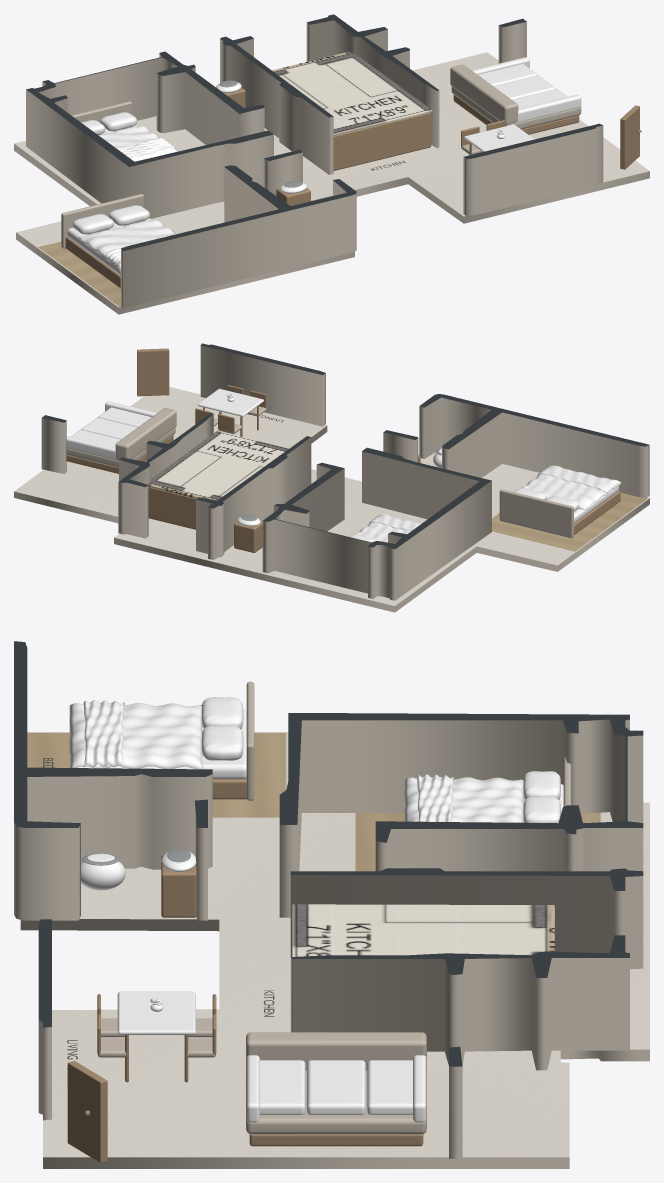
File: opal-group-unit-03.glb
3 renders of one model, top to bottom at view 1: azimuth 30°, elevation 25°; view 2: azimuth 150°, elevation 25°; view 3: azimuth 270°, elevation 25°, orthographic. The views are drawn at different scales.
Visible parts, largest first — view 1: Partition walls, Apartment floor, Stone worktop, Kitchen cabinets, Sofa back, Draped bed linen.002, Draped bed linen, Upholstered headboard.001, Open oak door, Marble dining top, Padded armrest, Upholstered sofa frame (+11 smaller); view 2: Partition walls, Apartment floor, Stone worktop, Upholstered headboard.001, Open oak door, Kitchen cabinets, Draped bed linen.002, Sofa back, Marble dining top, Draped bed linen.003, Vanity cabinet, Seat cushion.001 (+8 smaller); view 3: Partition walls, Apartment floor, Stone worktop, Draped bed linen.002, Sofa back, Draped bed linen, Upholstered sofa frame, Open oak door, Marble dining top, Seat cushion.001, Seat cushion, Seat cushion.002 (+13 smaller).
Part boxes in pixels (x1,y1,x2,y2): Partition walls: (26, 14, 603, 308); Apartment floor: (14, 52, 649, 314); Stone worktop: (272, 51, 432, 135); Kitchen cabinets: (333, 112, 431, 170); Sofa back: (450, 64, 518, 124); Draped bed linen.002: (78, 219, 175, 268); Draped bed linen: (98, 125, 177, 161); Upholstered headboard.001: (61, 194, 143, 248); Open oak door: (620, 105, 639, 169); Marble dining top: (464, 124, 534, 151); Padded armrest: (506, 94, 581, 125); Upholstered sofa frame: (451, 75, 581, 129); Partition walls: (41, 343, 649, 600); Apartment floor: (14, 387, 649, 612); Stone worktop: (147, 431, 288, 500); Upholstered headboard.001: (499, 489, 573, 538); Open oak door: (137, 348, 169, 396); Kitchen cabinets: (148, 487, 196, 529); Draped bed linen.002: (521, 465, 621, 509); Sofa back: (115, 408, 176, 459); Marble dining top: (198, 388, 263, 416); Draped bed linen.003: (537, 465, 618, 493); Vanity cabinet: (234, 521, 262, 552); Seat cushion.001: (81, 417, 137, 439); Partition walls: (14, 641, 643, 1158); Apartment floor: (20, 732, 649, 1168); Stone worktop: (292, 904, 554, 956); Draped bed linen.002: (69, 702, 203, 769); Sofa back: (246, 1032, 426, 1070); Draped bed linen: (404, 777, 524, 822); Upholstered sofa frame: (246, 1067, 426, 1134); Open oak door: (67, 1061, 107, 1162); Marble dining top: (117, 991, 195, 1034); Seat cushion.001: (307, 1060, 365, 1114); Seat cushion: (260, 1060, 305, 1114); Seat cushion.002: (367, 1060, 412, 1114).
Bounding box in the file's own units: 12.79 × 1.44 × 7.96.
Materials: 12 (2 with a texture image).
